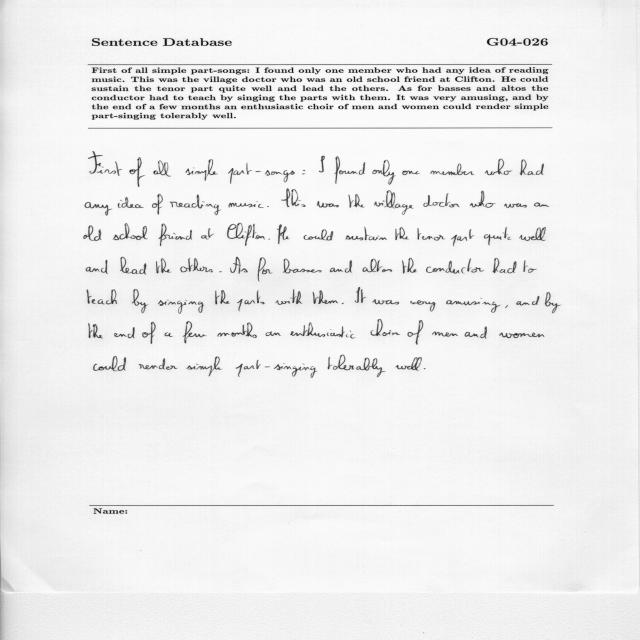word: (236, 360, 317, 378), (228, 163, 295, 184), (328, 355, 386, 377), (290, 322, 355, 339), (170, 195, 221, 216), (374, 190, 414, 215), (227, 223, 265, 246), (426, 259, 484, 274), (334, 156, 365, 184), (89, 151, 122, 176), (446, 298, 501, 313), (159, 224, 192, 246), (186, 357, 222, 377), (186, 159, 218, 181), (158, 300, 204, 314), (217, 322, 257, 338), (372, 160, 396, 185), (113, 223, 148, 240), (237, 291, 265, 312), (283, 259, 322, 274), (183, 321, 207, 344), (346, 227, 388, 240), (423, 194, 460, 208), (94, 356, 127, 371), (371, 319, 400, 336), (484, 227, 511, 245), (431, 164, 475, 175), (120, 257, 146, 275), (139, 358, 178, 370), (180, 258, 213, 272), (130, 157, 145, 187), (281, 189, 306, 207), (87, 290, 117, 305), (470, 191, 496, 208), (485, 159, 512, 175), (276, 289, 303, 305), (132, 289, 149, 313), (451, 229, 474, 246), (520, 160, 544, 176), (519, 227, 546, 241), (395, 357, 422, 371), (363, 259, 392, 272), (492, 258, 517, 273), (408, 320, 423, 345), (544, 292, 561, 313), (85, 202, 112, 215), (313, 290, 338, 304), (418, 228, 446, 240), (258, 258, 272, 282), (304, 230, 333, 241), (86, 260, 108, 274), (142, 322, 156, 344), (230, 257, 248, 274), (153, 161, 171, 177), (84, 225, 102, 241), (118, 197, 144, 208), (330, 260, 352, 273), (410, 301, 436, 312), (499, 333, 545, 339), (465, 327, 487, 339), (277, 224, 290, 244), (229, 201, 264, 208), (348, 194, 365, 208), (152, 194, 163, 215), (114, 327, 135, 338), (516, 296, 539, 306), (156, 259, 171, 274), (402, 258, 417, 273), (215, 290, 230, 304), (89, 323, 103, 338), (395, 227, 409, 240), (523, 260, 537, 273), (355, 287, 366, 303), (373, 299, 399, 305), (317, 201, 339, 208), (201, 229, 214, 240), (432, 332, 458, 337), (504, 203, 527, 208), (319, 156, 325, 173), (534, 202, 549, 207), (266, 331, 281, 336), (402, 171, 420, 175), (164, 332, 173, 337), (302, 170, 305, 174), (505, 305, 508, 308), (219, 272, 222, 273), (341, 303, 344, 304), (267, 206, 269, 207), (268, 239, 270, 240), (424, 368, 426, 369)
